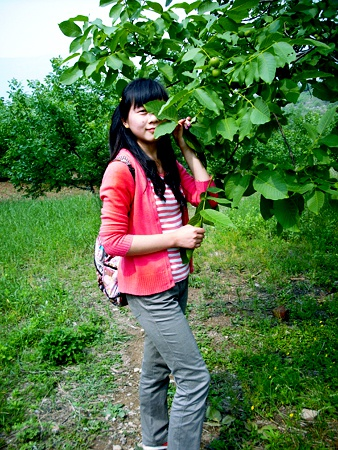face: (129, 94, 161, 140)
